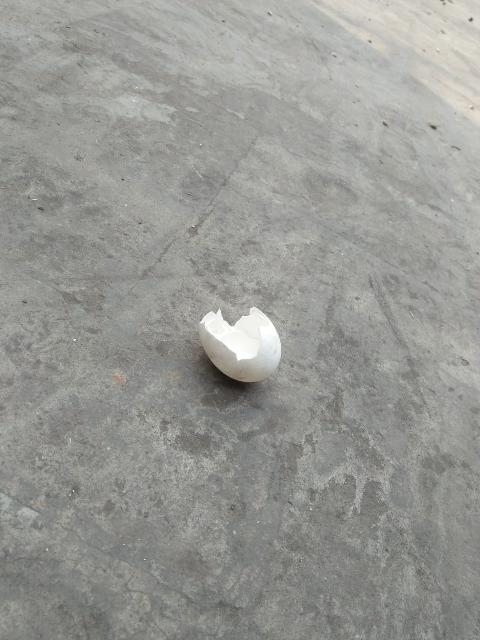Roto: (197, 305, 282, 383)
